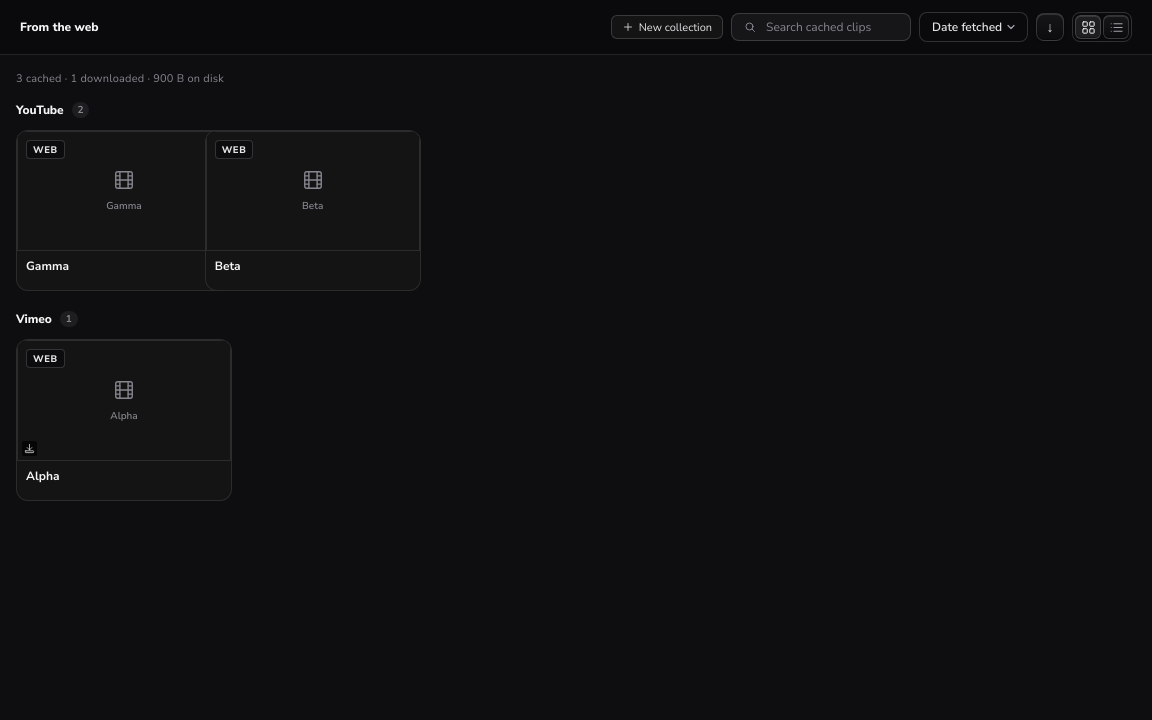
CachedWebPane browser parity › search filters across shelves after the debounce
The image size is (1152, 720).
Note: fireEvent-free change: React reads the input through onChange
In the field labelled "Search cached clips": [833, 27] box [764,18,902,36], type "alp"
Wait 200 ms
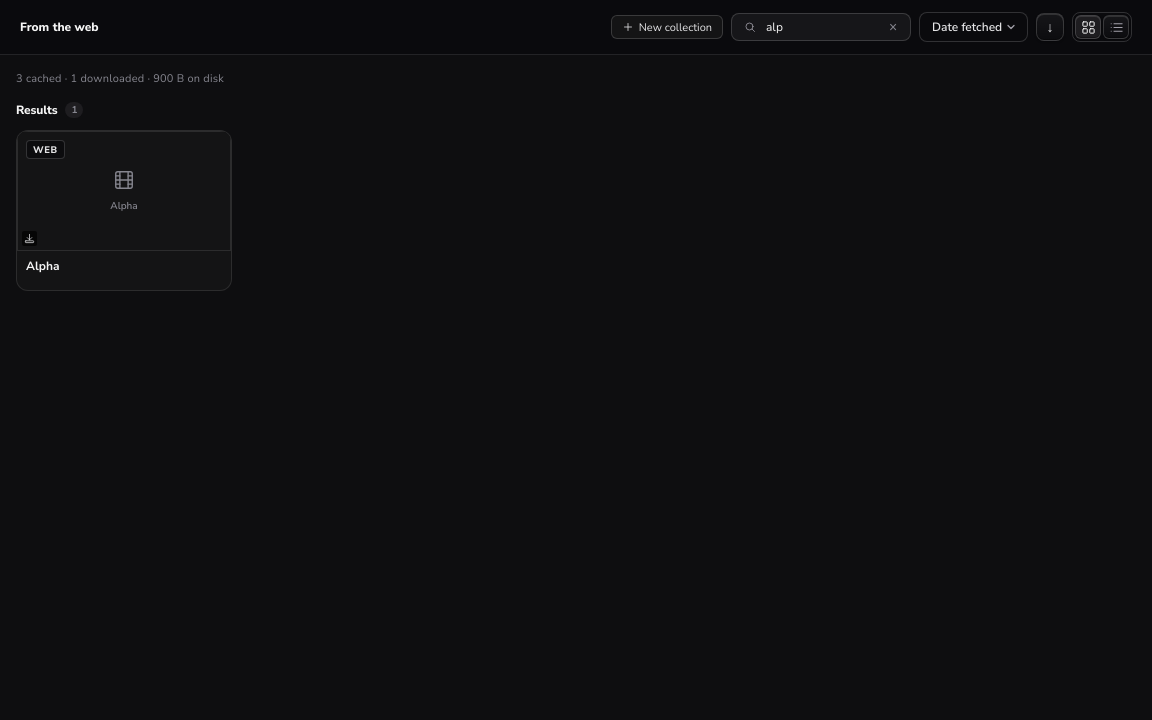
expect the heading "Results 1" is shown: met, box [16,102,83,118]
